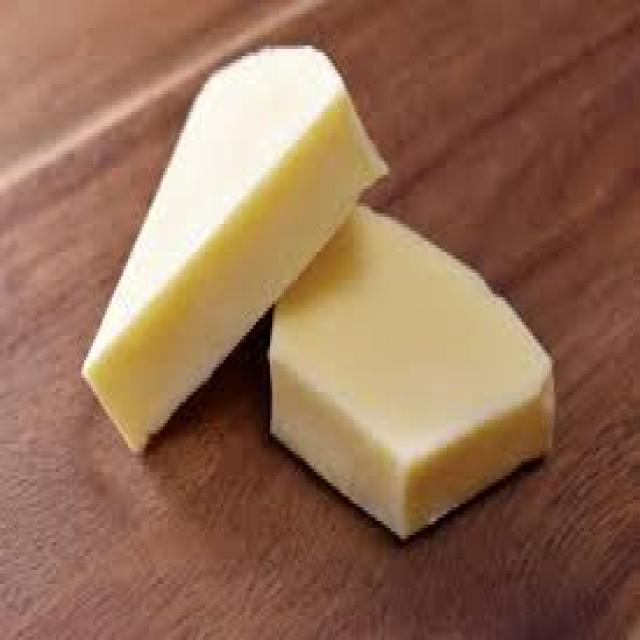organic waste: (77, 42, 386, 455), (263, 192, 552, 538)
